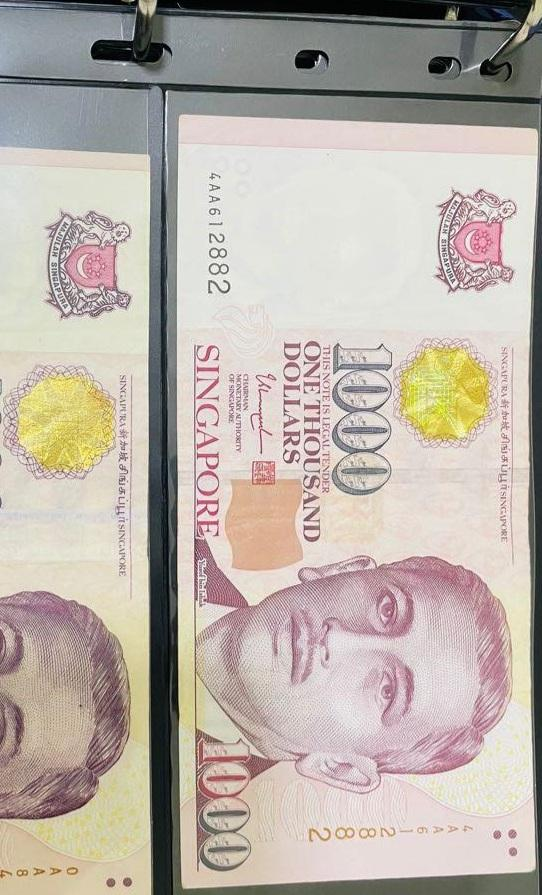1000SingaporeDollar: (181, 130, 532, 870)
